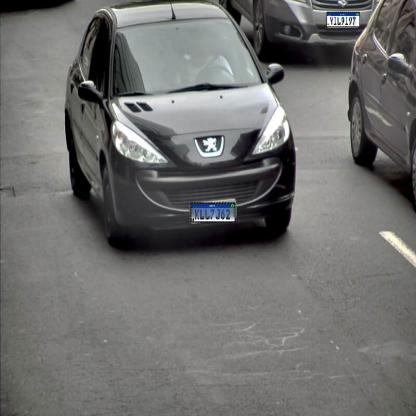PlacaM: (190, 202, 235, 223), (326, 12, 360, 27)
